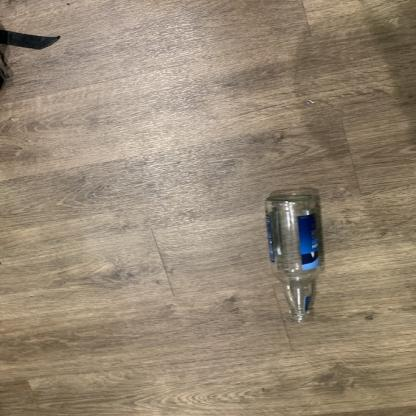trash: (260, 192, 323, 322)
